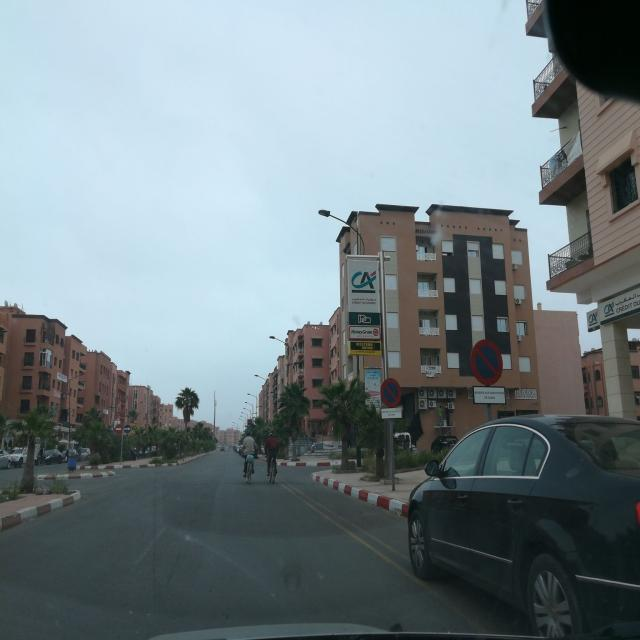forb_stopping: (469, 338, 503, 387), (380, 377, 402, 408)
